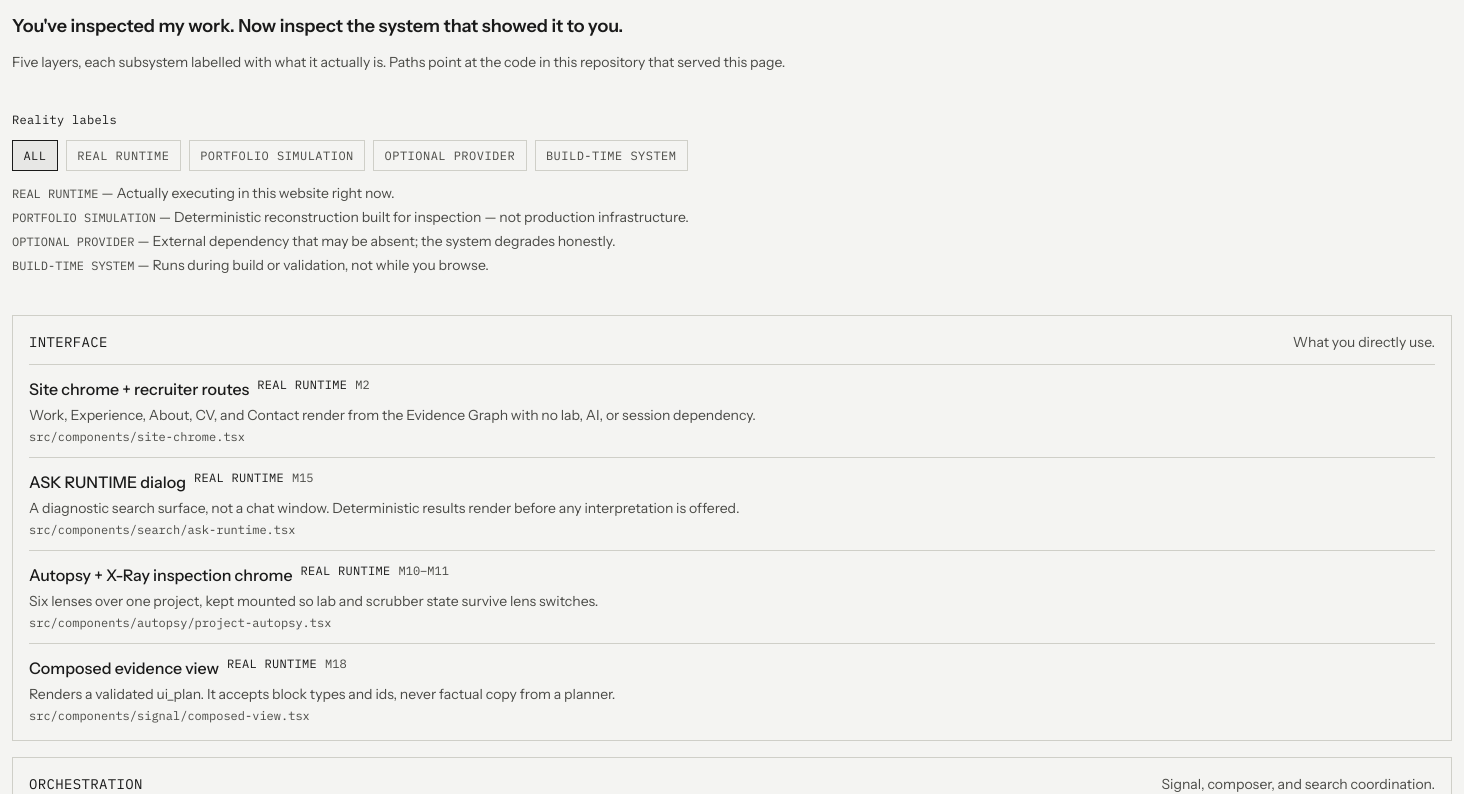
Scenario: UnderTheSurface (M22) › filters subsystems by reality label
Click the button "OPTIONAL PROVIDER". click: (450,156)
box: [373, 140, 526, 171]
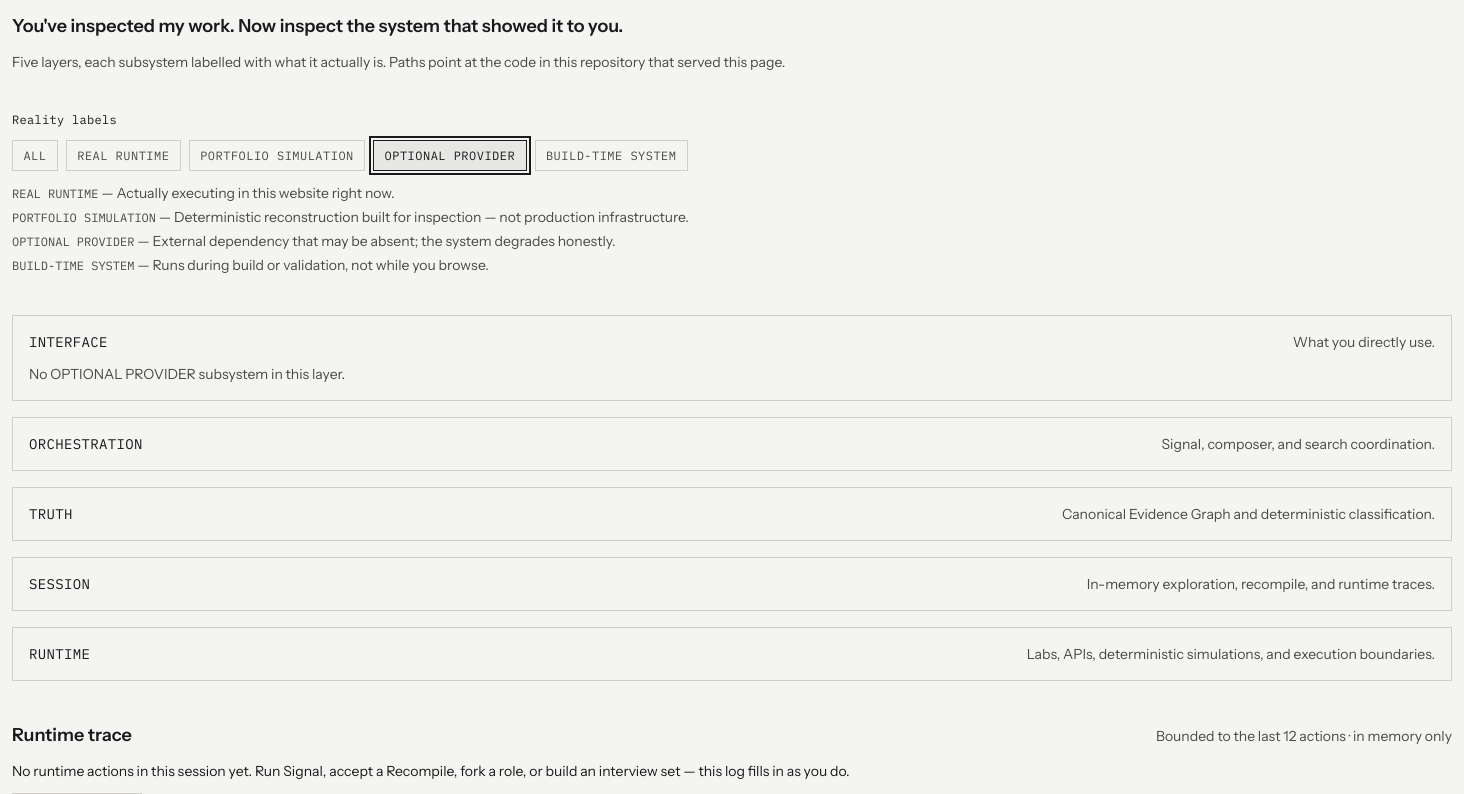
Now the text "No OPTIONAL PROVIDER subsystem in this layer." is shown, box [29, 365, 345, 383]
